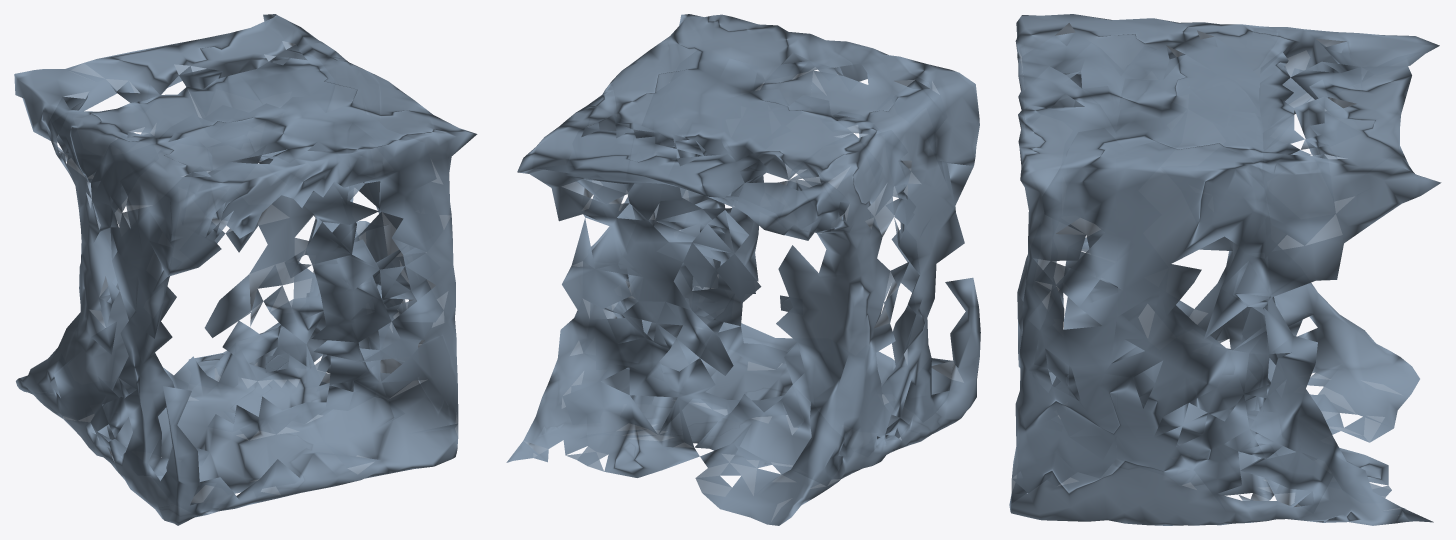
File: bed_0513_recon.obj
3 renders of one model, left to right at view 1: azimuth 30°, elevation 25°; view 2: azimuth 150°, elevation 25°; view 3: azimuth 270°, elevation 25°, orthographic. The views are drawn at different scales.
Bounding box in the file's own units: 1.12 × 1.2 × 1.24.
